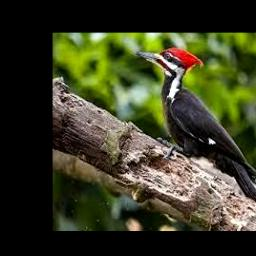Woodpecker: (135, 47, 256, 215)
